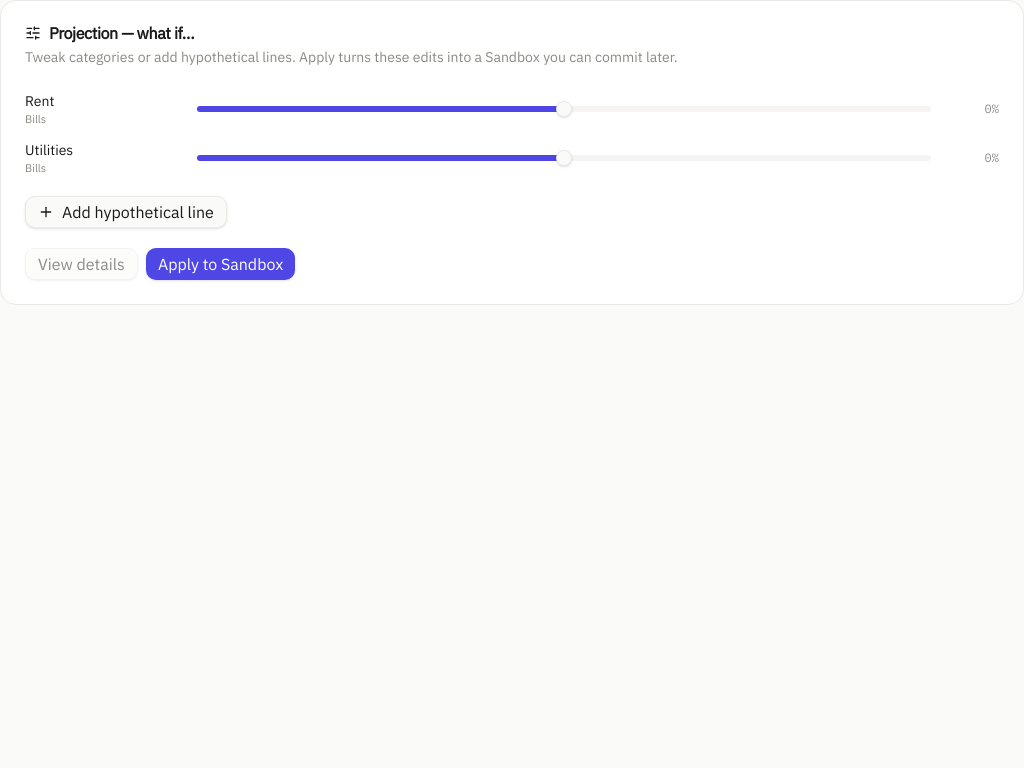
Test: ProjectionPanel › Apply with "sandbox already exists" error opens auto-park modal
Check: the text "Rent" is shown, box [25,92,54,110]
Click the button "Apply to Sandbox" at coordinates (221, 264), box [146,248,295,280]
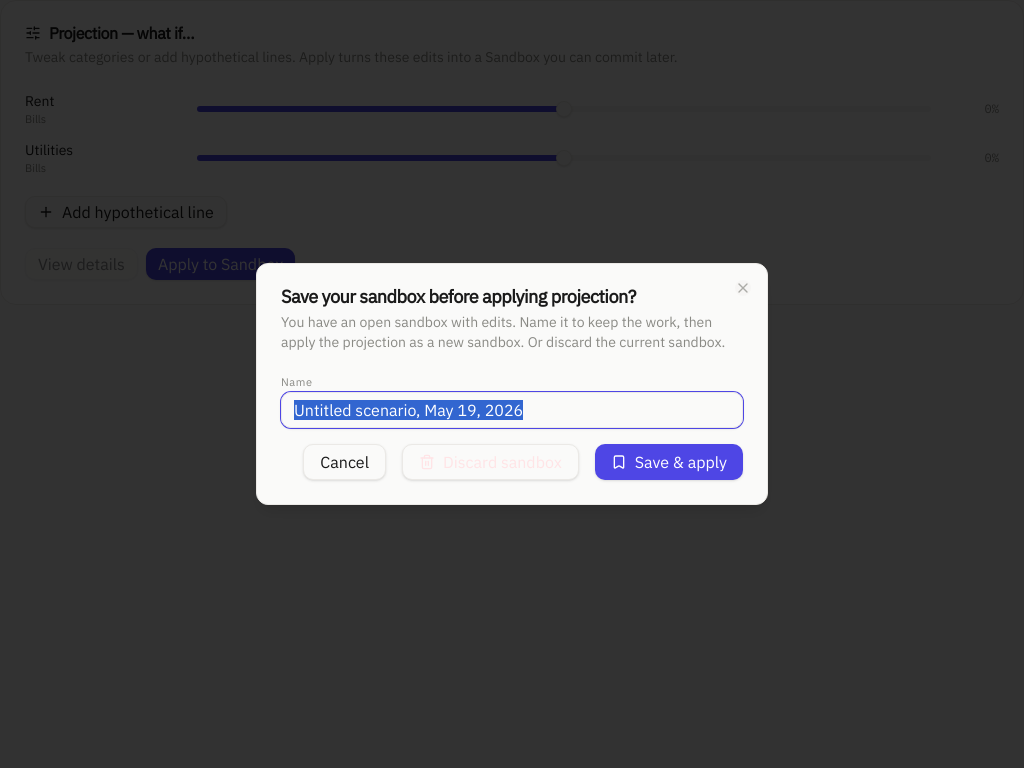
Check: the heading "Save your sandbox before applying projection?" is shown, box [281,285,636,308]
